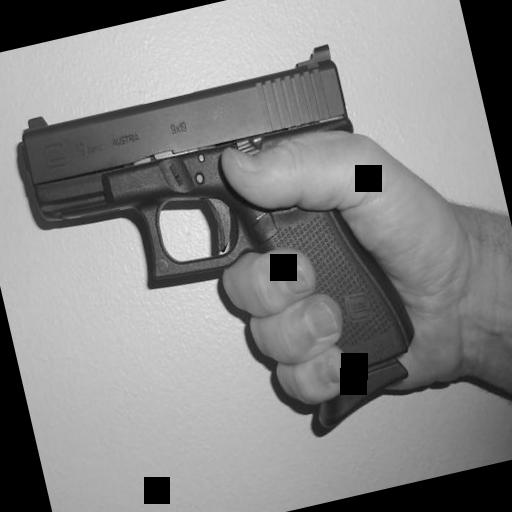Handgun: (10, 39, 432, 485)
